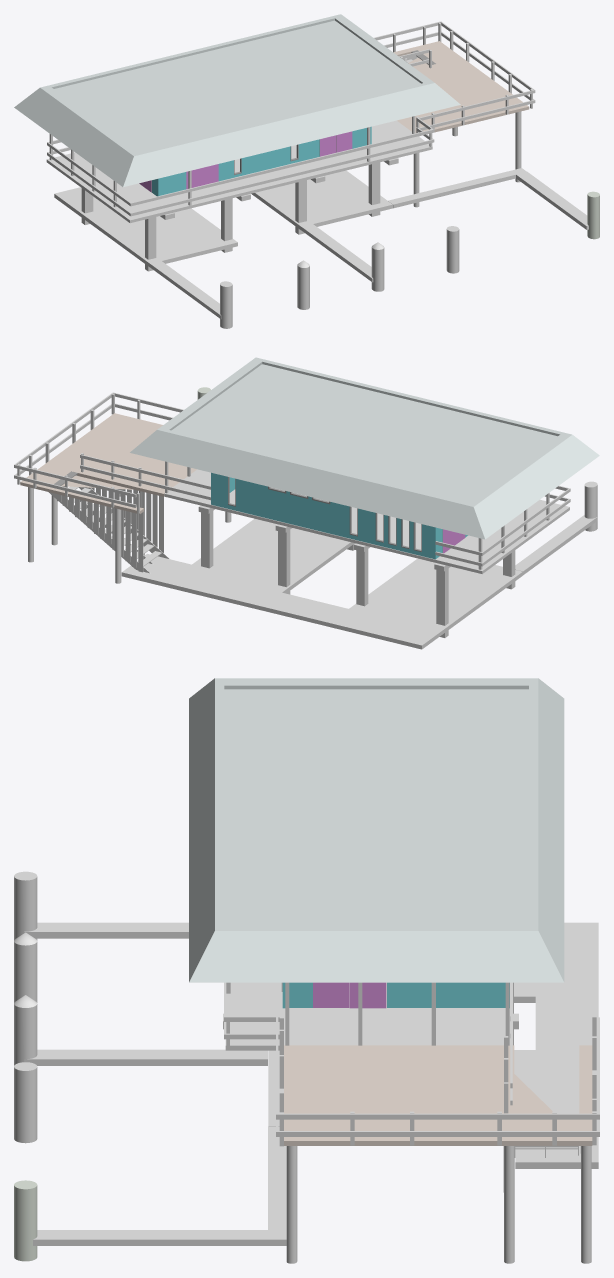
Rendered from UnamedLight 1.fbx.
3 renders of one model, top to bottom at view 1: azimuth 30°, elevation 25°; view 2: azimuth 150°, elevation 25°; view 3: azimuth 270°, elevation 25°, orthographic. The views are drawn at different scales.
Parts seen in each view (by area): view 1: pCube418; view 2: pCube418; view 3: pCube418.
Part boxes in pixels (x1=…): pCube418: x1=14, y1=14, x2=599, y2=328; pCube418: x1=14, y1=357, x2=599, y2=649; pCube418: x1=14, y1=678, x2=599, y2=1263.
Size of the model in its own units: 365 by 112 by 246.
